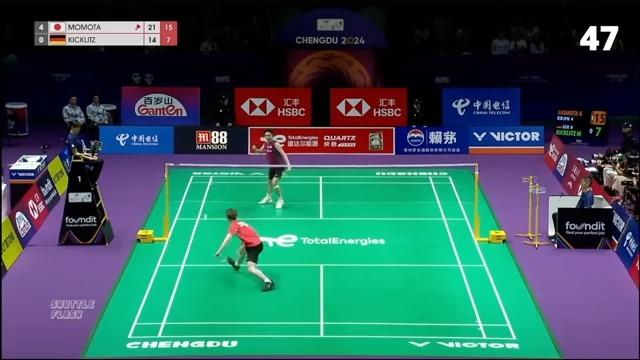Shuttlecock: (203, 213, 209, 219)
